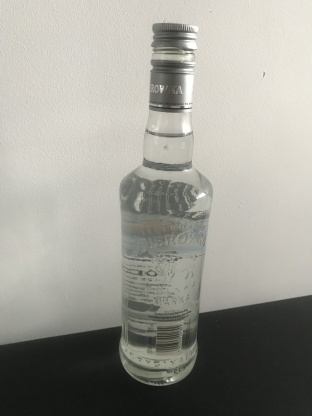nakretka: (147, 19, 200, 113)
